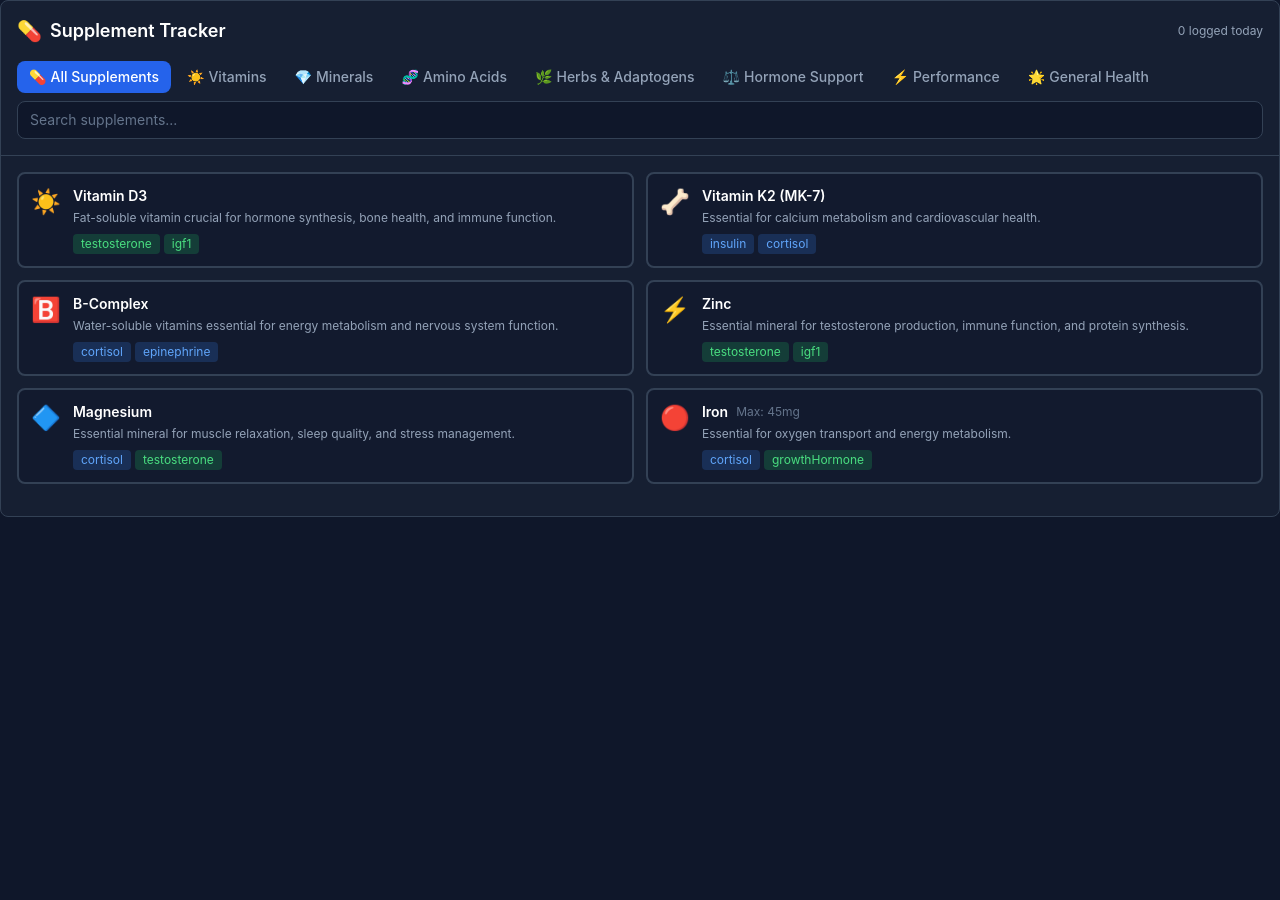
Test: SupplementTracker › should display interactions warning when present
# Zinc has interactions, need to search for it since it might not be in first 6
Type "zinc" into the field with placeholder "Search supplements..." at (640, 120), box [17,101,1263,139]
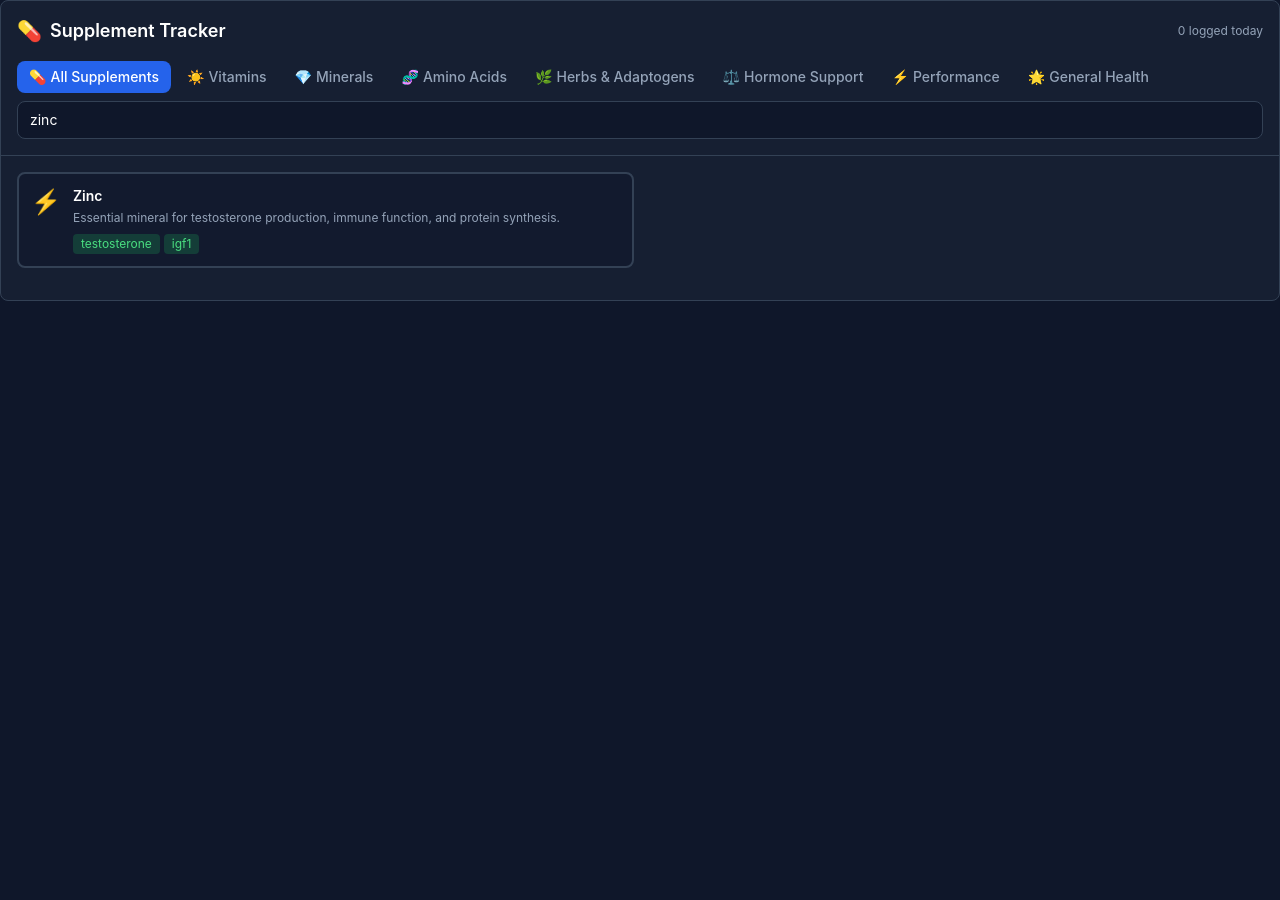
Click the option "Zinc" at (326, 220), box [17,172,634,268]
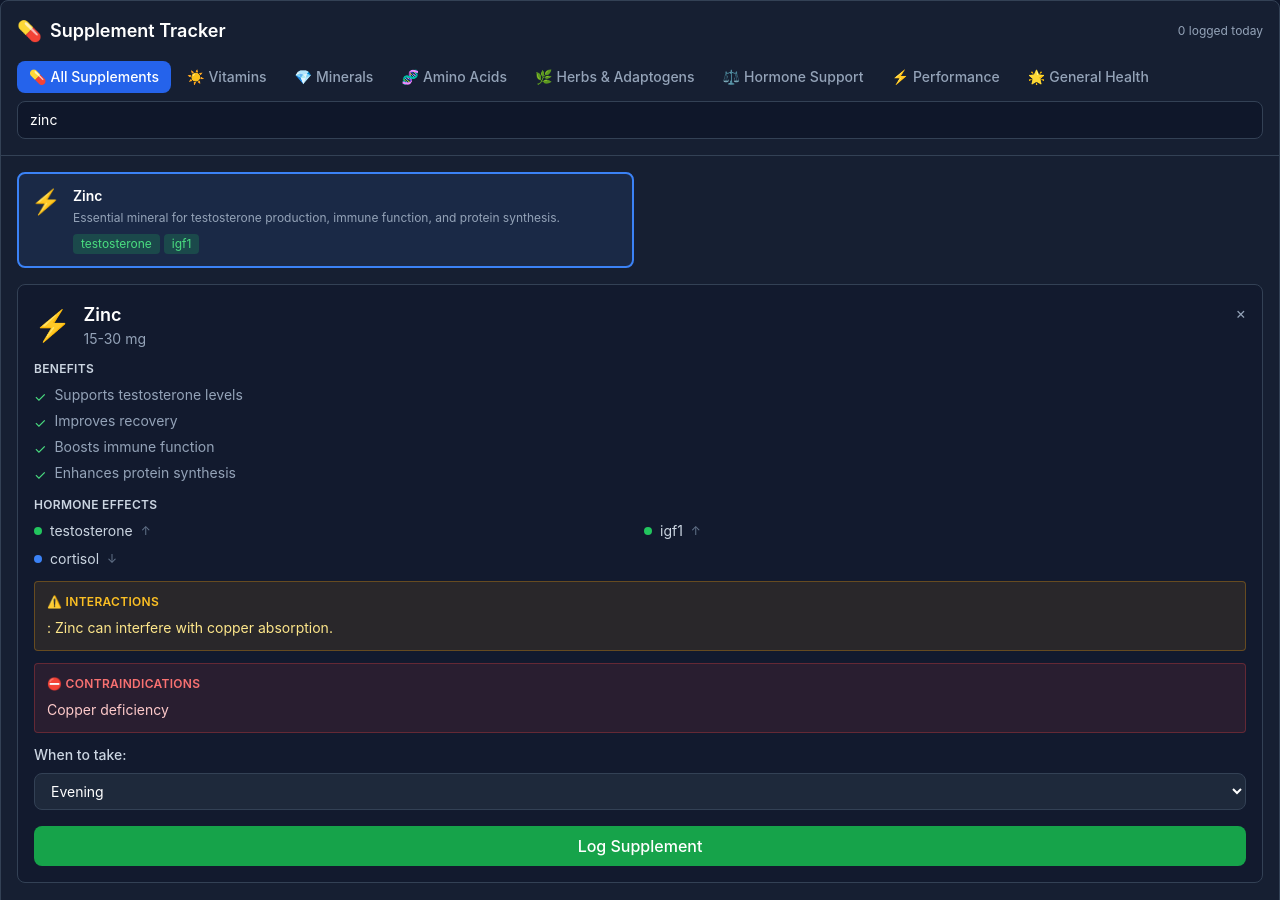
Expected: the heading "⚠️ Interactions" is shown, [47,594,159,609]
